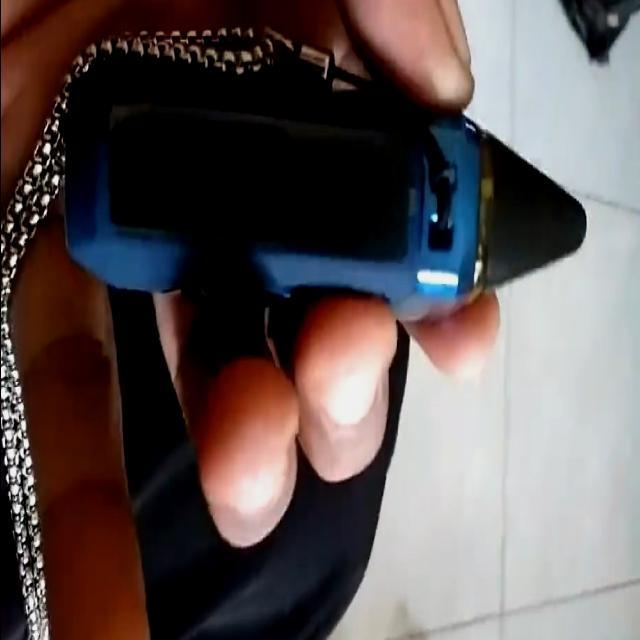Hazard: (62, 61, 586, 327)
